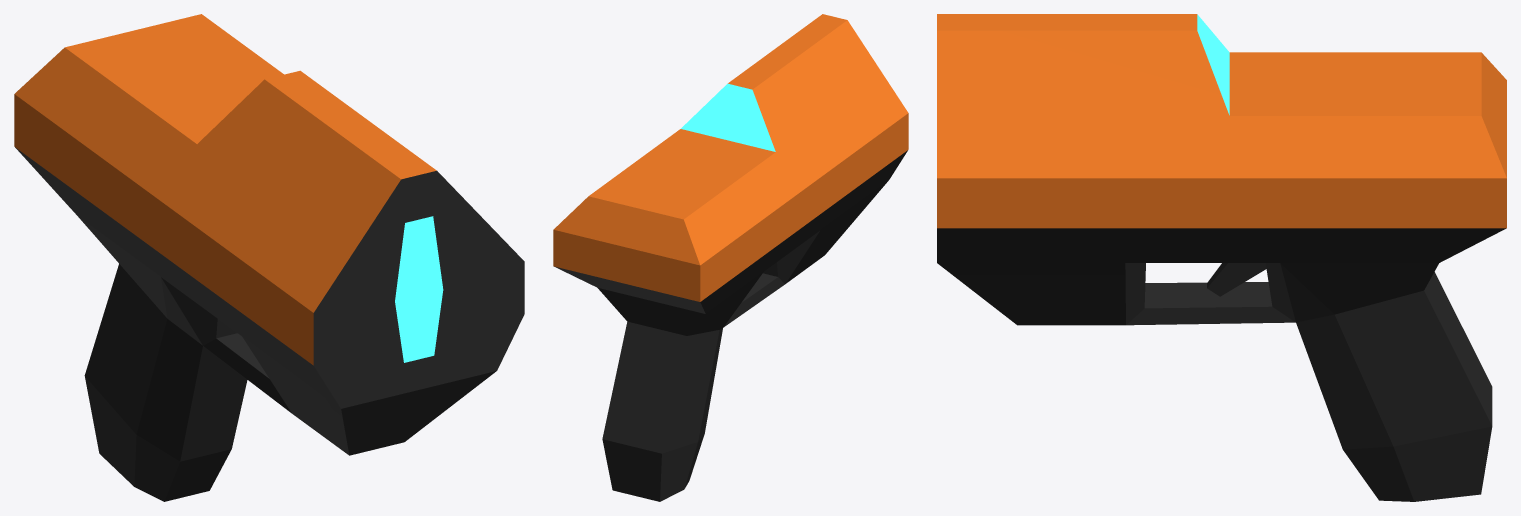
File: scifi_matter-manipulator.fbx
3 views of the same model, side by side, from view 1: azimuth 30°, elevation 25°; view 2: azimuth 150°, elevation 25°; view 3: azimuth 270°, elevation 25° (orthographic). The views are drawn at different scales.
Visible parts, largest first — view 1: scifi_matter_manipulator; view 2: scifi_matter_manipulator; view 3: scifi_matter_manipulator.
Boxes of the visible parts, bbox=[...] form: scifi_matter_manipulator: bbox=[14, 14, 524, 501]; scifi_matter_manipulator: bbox=[553, 14, 908, 501]; scifi_matter_manipulator: bbox=[937, 14, 1506, 501].
Bounding box in the file's own units: 81.41 × 181 × 200.
